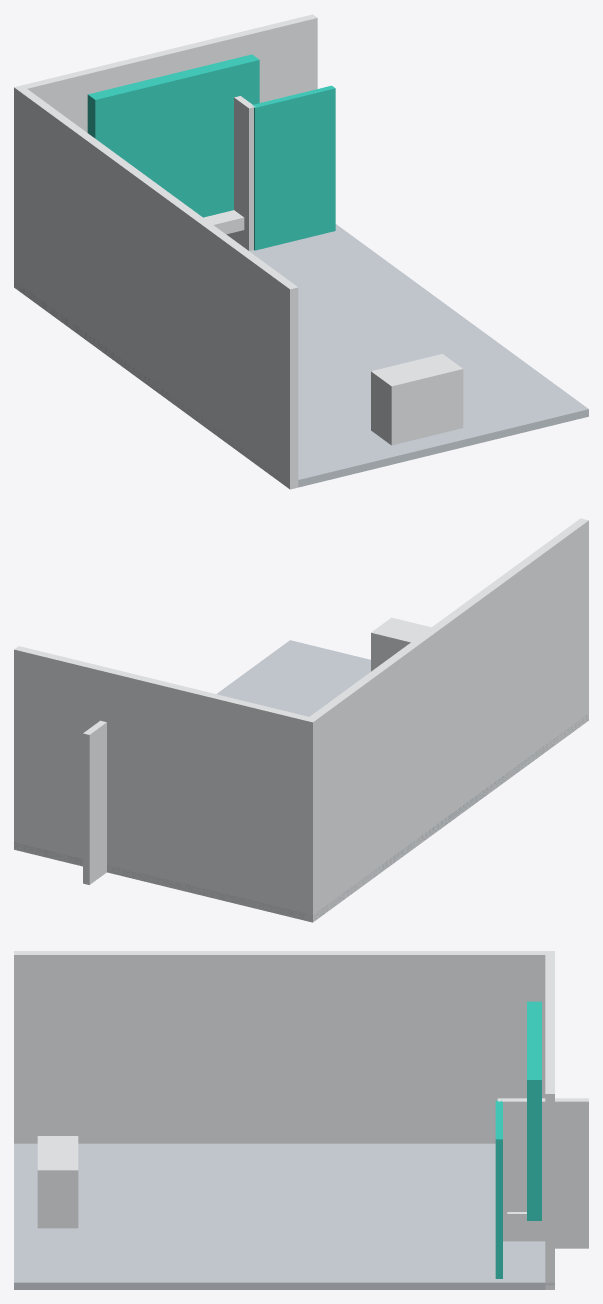
3 views of the same model, one above another, from view 1: azimuth 30°, elevation 25°; view 2: azimuth 150°, elevation 25°; view 3: azimuth 270°, elevation 25° (orthographic). The views are drawn at different scales.
Visible parts, largest first — view 1: Exhibition Booth Concept; view 2: Exhibition Booth Concept; view 3: Exhibition Booth Concept.
Part boxes in pixels (box(x1,y1,x2,y2)): Exhibition Booth Concept: box(14, 14, 588, 489); Exhibition Booth Concept: box(14, 518, 588, 922); Exhibition Booth Concept: box(14, 951, 588, 1289).
Size of the model in its own units: 5 by 3.2 by 8.51.
